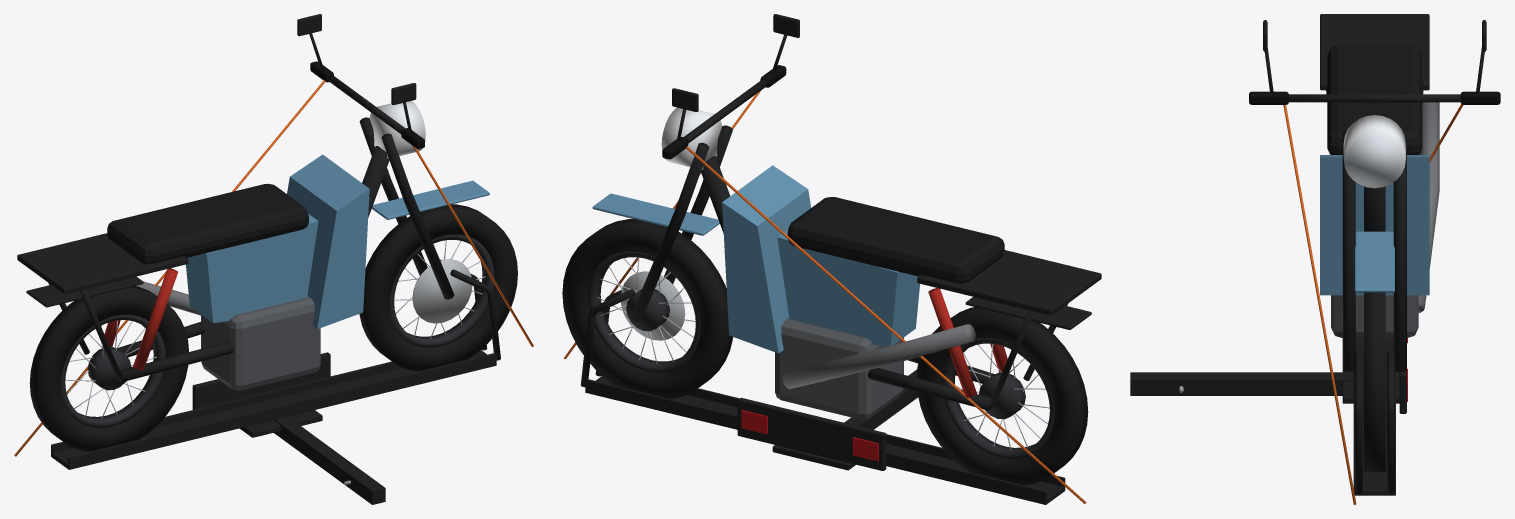
The model's file is carrier_versahaul_supercub.glb.
3 renders of one model, left to right at view 1: azimuth 30°, elevation 25°; view 2: azimuth 150°, elevation 25°; view 3: azimuth 270°, elevation 25°, orthographic. The views are drawn at different scales.
Visible parts, largest first — view 1: motoFTyre.002, motoRTyre.002, motoSeat.002, motoLegShield.001, motoSideCover.002, motoEngine.002, motoRack.001, railFloor.002, railSide1.002, shank.004, motoFRim.002, motoFDisc.002 (+19 smaller); view 2: motoFTyre.002, motoRTyre.002, motoSeat.002, motoLegShield.001, motoSideCover.002, motoEngine.002, motoRack.001, tailBoard.002, motoPipe.002, railSide-1.002, railFloor.002, motoFRim.002 (+19 smaller); view 3: motoSeat.002, motoLegShield.001, shank.004, motoRack.001, motoFTyre.002, motoFork1.002, motoFork-1.002, motoGuard.002, motoLampLens.002, motoPipe.002, motoEngine.002, motoLamp.002 (+9 smaller).
Boxes of the visible parts, <box> form: motoFTyre.002: <box>359,204,517,371</box>; motoRTyre.002: <box>29,286,188,451</box>; motoSeat.002: <box>107,183,308,264</box>; motoLegShield.001: <box>287,154,369,329</box>; motoSideCover.002: <box>186,214,318,323</box>; motoEngine.002: <box>201,296,320,390</box>; motoRack.001: <box>17,233,188,293</box>; railFloor.002: <box>51,350,496,469</box>; railSide1.002: <box>68,352,496,466</box>; shank.004: <box>273,416,385,504</box>; motoFRim.002: <box>389,234,494,347</box>; motoFDisc.002: <box>412,259,472,323</box>; motoFTyre.002: <box>562,219,733,398</box>; motoRTyre.002: <box>916,307,1088,485</box>; motoSeat.002: <box>787,197,1004,283</box>; motoLegShield.001: <box>722,165,811,353</box>; motoSideCover.002: <box>777,229,919,346</box>; motoEngine.002: <box>775,317,903,419</box>; motoRack.001: <box>917,250,1101,315</box>; tailBoard.002: <box>737,397,886,470</box>; motoPipe.002: <box>782,324,975,389</box>; railSide-1.002: <box>585,379,1046,500</box>; railFloor.002: <box>585,376,1065,504</box>; motoFRim.002: <box>587,251,700,373</box>; motoSeat.002: <box>1327,45,1422,154</box>; motoLegShield.001: <box>1320,155,1429,295</box>; shank.004: <box>1130,372,1353,395</box>; motoRack.001: <box>1320,14,1429,90</box>; motoFTyre.002: <box>1364,292,1385,471</box>; motoFork1.002: <box>1342,132,1355,371</box>; motoFork-1.002: <box>1393,132,1406,371</box>; motoGuard.002: <box>1354,231,1394,292</box>; motoLampLens.002: <box>1347,135,1402,185</box>; motoPipe.002: <box>1418,102,1439,312</box>; motoEngine.002: <box>1331,295,1418,337</box>; motoLamp.002: <box>1343,115,1405,188</box>.
Bounding box in the file's own units: 1.85 × 1.25 × 1.02.
